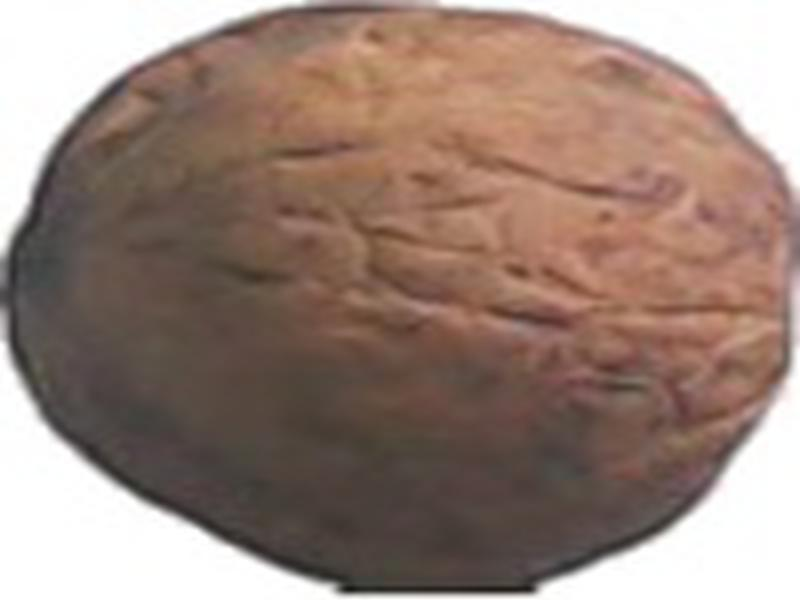walnut: (2, 5, 800, 595)
